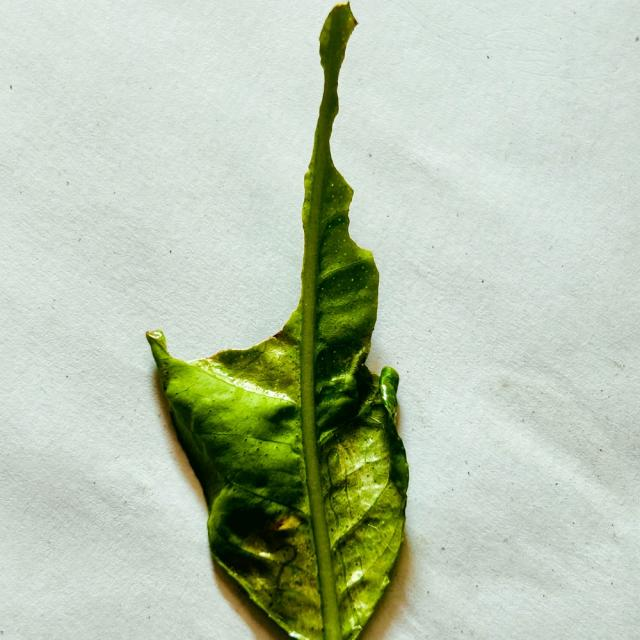Deficiency Leaf: (147, 37, 326, 362), (330, 116, 370, 250), (367, 267, 402, 376)
Lemon: (147, 4, 408, 639)
